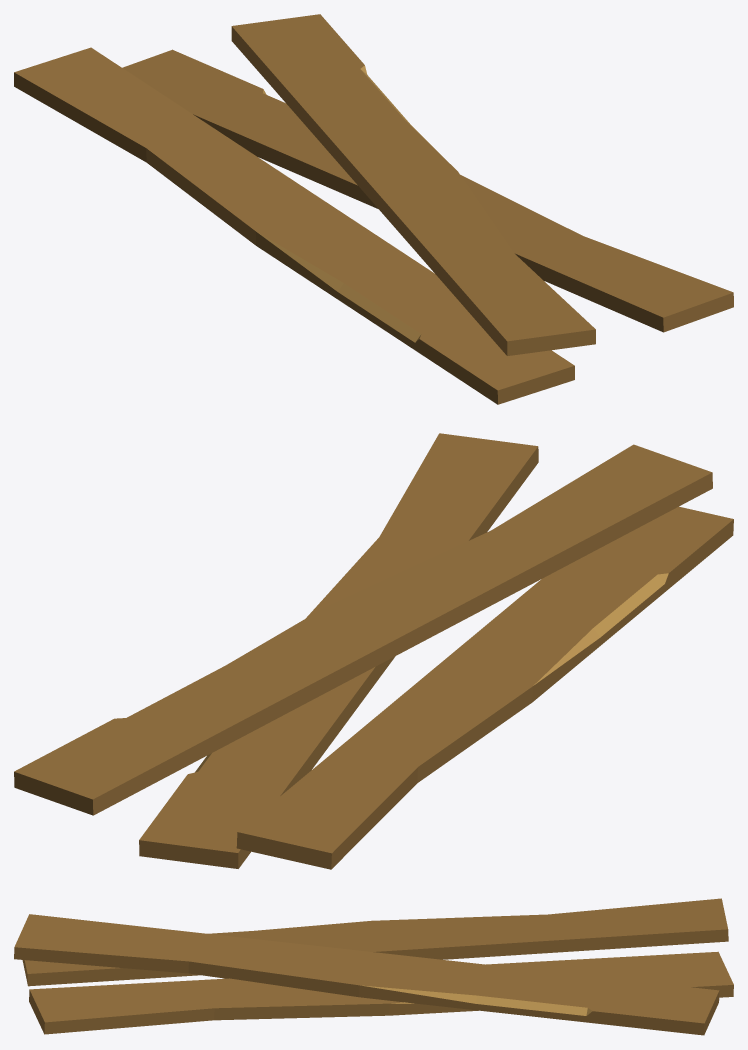
Rendered from Wood Planks.glb.
3 renders of one model, top to bottom at view 1: azimuth 30°, elevation 25°; view 2: azimuth 150°, elevation 25°; view 3: azimuth 270°, elevation 25°, orthographic. The views are drawn at different scales.
Visible parts, largest first — view 1: Wood Planks; view 2: Wood Planks; view 3: Wood Planks.
Part boxes in pixels (x1=…): Wood Planks: x1=14, y1=14, x2=733, y2=404; Wood Planks: x1=14, y1=433, x2=733, y2=869; Wood Planks: x1=14, y1=898, x2=733, y2=1035.
Bounding box in the file's own units: 0.7164 × 0.1244 × 1.73.
